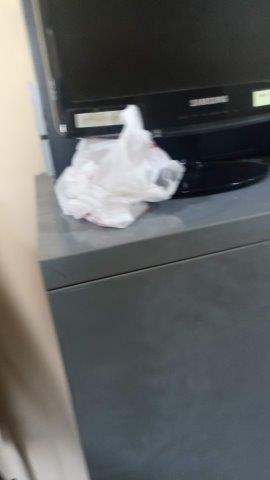plastik: (54, 104, 182, 231)
